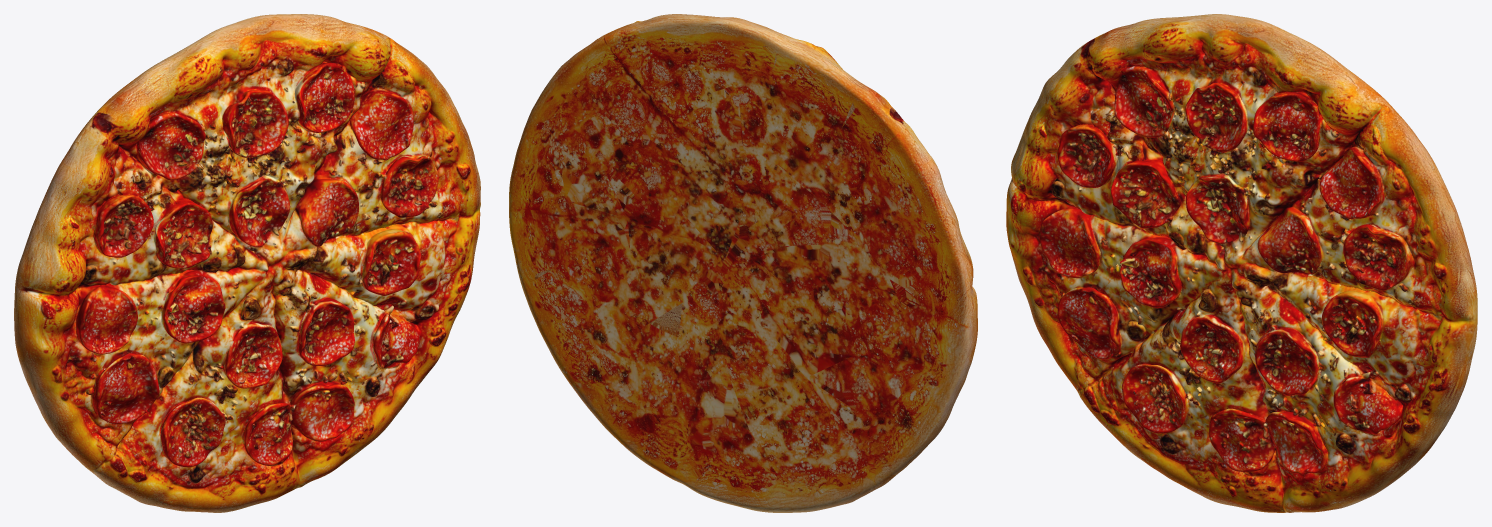
Rendered from pizza-v1.glb.
3 views of the same model, side by side, from view 1: azimuth 30°, elevation 25°; view 2: azimuth 150°, elevation 25°; view 3: azimuth 330°, elevation 25° (orthographic).
Size of the model in its own units: 1.9 by 1.9 by 0.206.
1 material, 1 textured.
